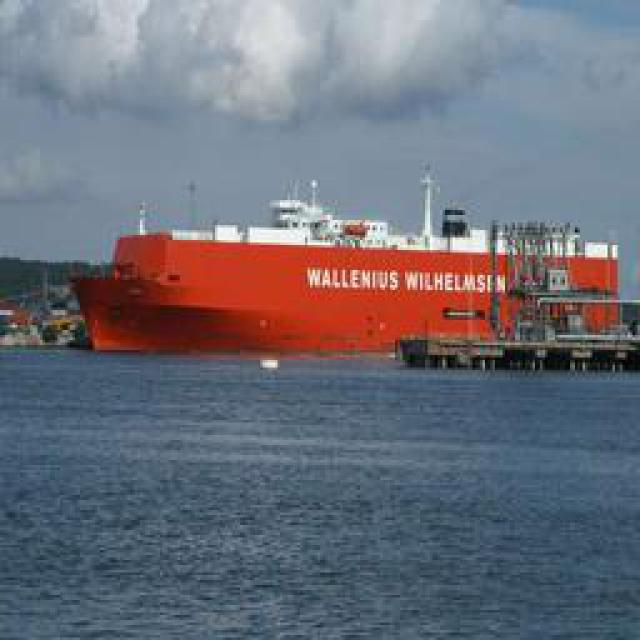Ship: (63, 171, 640, 361)
